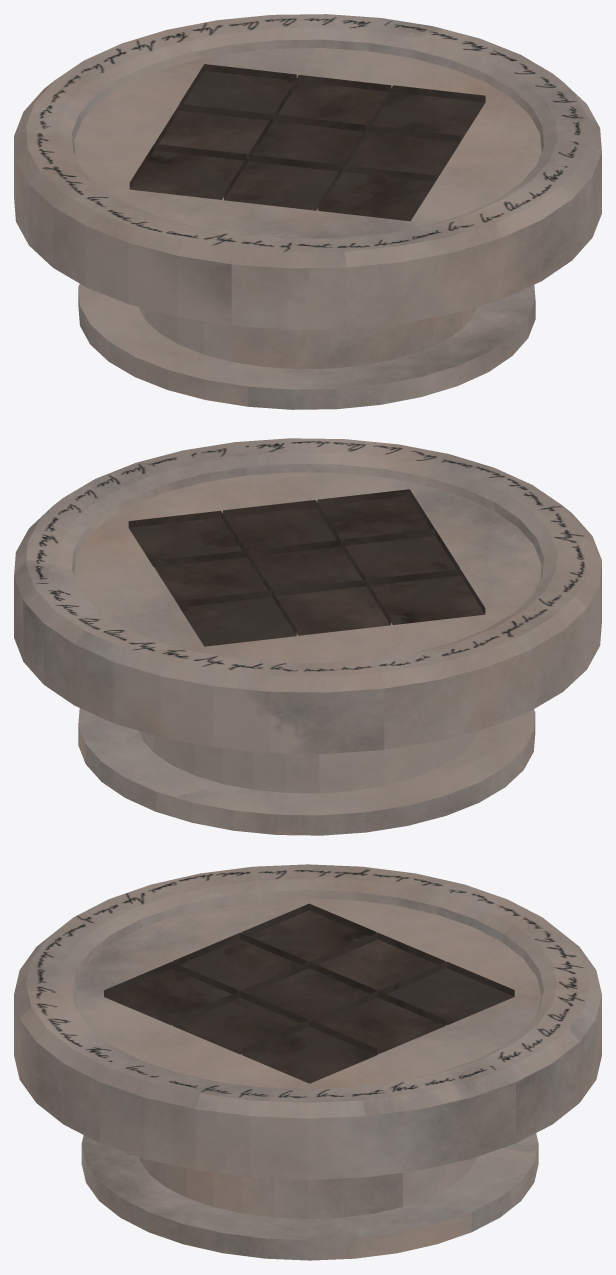
File: StoneTablet.glb
3 renders of one model, top to bottom at view 1: azimuth 30°, elevation 25°; view 2: azimuth 150°, elevation 25°; view 3: azimuth 270°, elevation 25°, orthographic.
Parts seen in each view (by area): view 1: Table, TempatBuku; view 2: Table, TempatBuku; view 3: Table, TempatBuku.
Boxes of the visible parts, <box> form: Table: <box>14,14,601,409</box>; TempatBuku: <box>129,64,485,221</box>; Table: <box>14,438,601,835</box>; TempatBuku: <box>128,489,485,646</box>; Table: <box>14,864,601,1260</box>; TempatBuku: <box>104,903,514,1083</box>.
Size of the model in its own units: 5.33 by 1.81 by 5.33.
2 materials, 2 textured.
